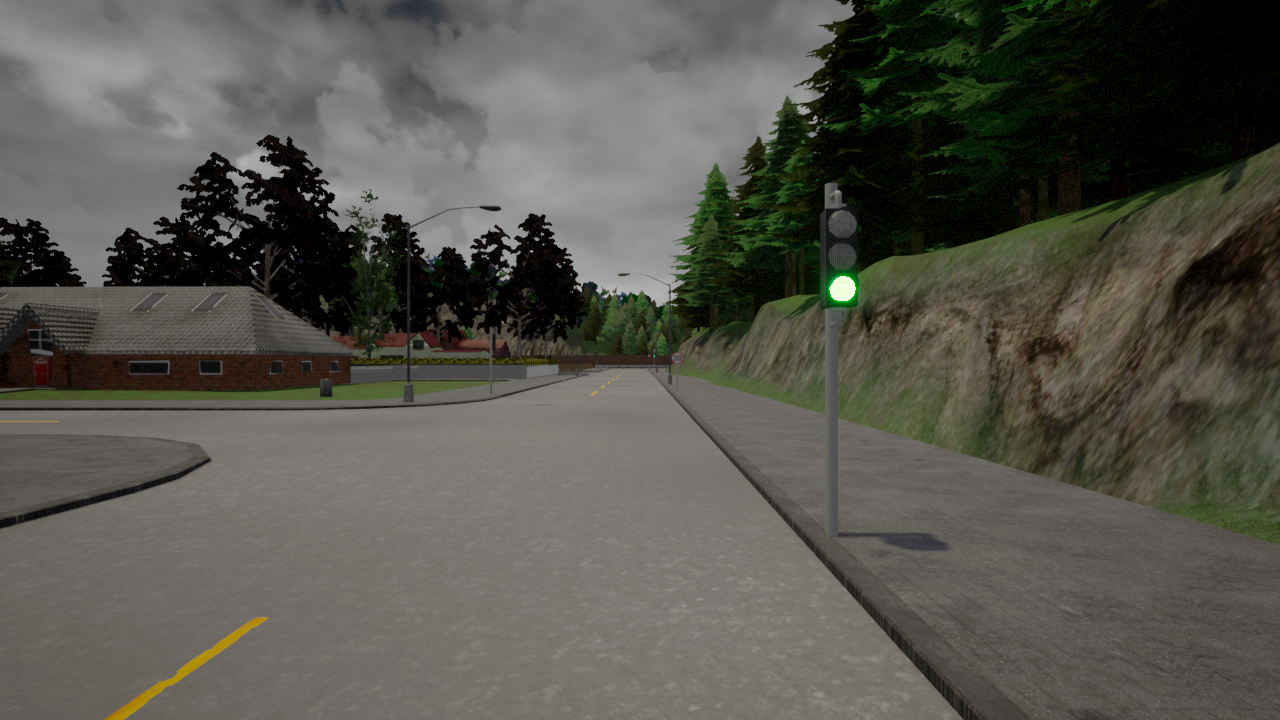green: (818, 205, 861, 308)
